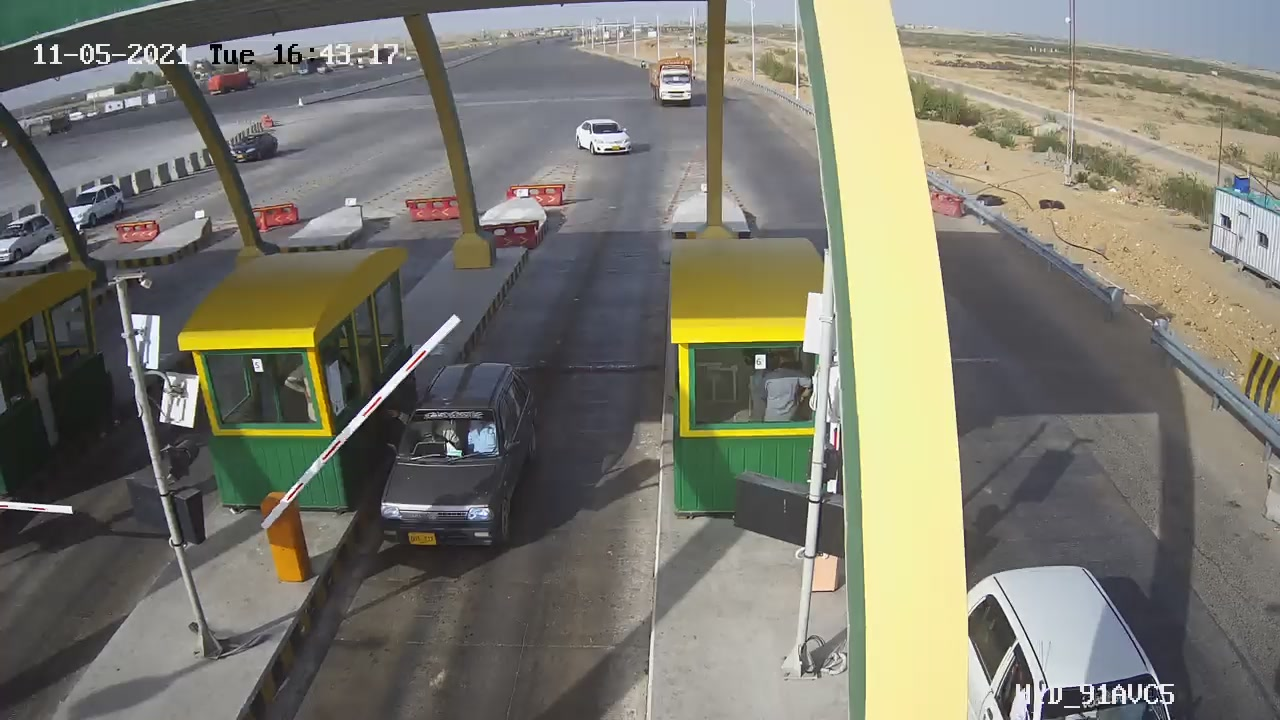F1: (358, 349, 562, 586)
